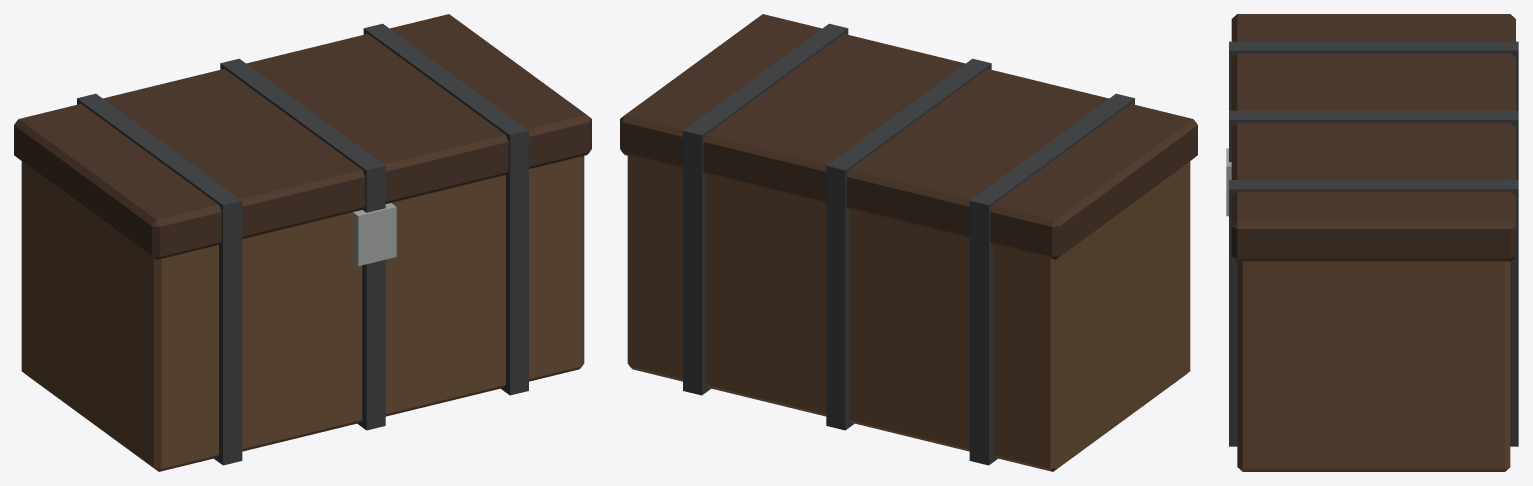
Rendered from chest.glb.
3 views of the same model, side by side, from view 1: azimuth 30°, elevation 25°; view 2: azimuth 150°, elevation 25°; view 3: azimuth 270°, elevation 25° (orthographic).
Visible parts, largest first — view 1: Chest; view 2: Chest; view 3: Chest.
Boxes of the visible parts, bbox=[...] form: Chest: bbox=[14, 14, 591, 471]; Chest: bbox=[620, 14, 1197, 471]; Chest: bbox=[1226, 14, 1518, 471].
Bounding box in the file's own units: 0.92 × 0.52 × 0.535.
